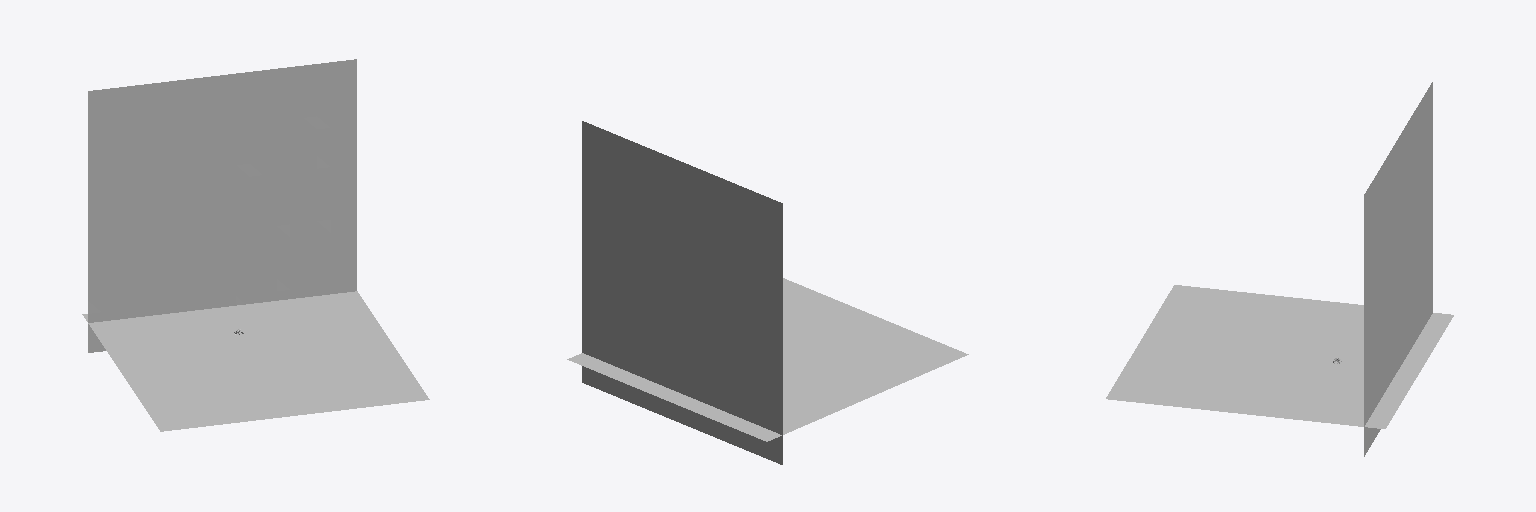
File: people.obj
The picture shows the model from 3 angles: view 1: azimuth 30°, elevation 25°; view 2: azimuth 150°, elevation 25°; view 3: azimuth 270°, elevation 25°; orthographic projection.
Parts seen in each view (by area): view 1: Plane.2; view 2: Plane.2; view 3: Plane.2.
Boxes of the visible parts, x1,y1,x2,y2 form: Plane.2: [82, 59, 429, 431]; Plane.2: [567, 121, 968, 464]; Plane.2: [1106, 82, 1453, 456].
Size of the model in its own units: 14819 by 12516 by 15117.